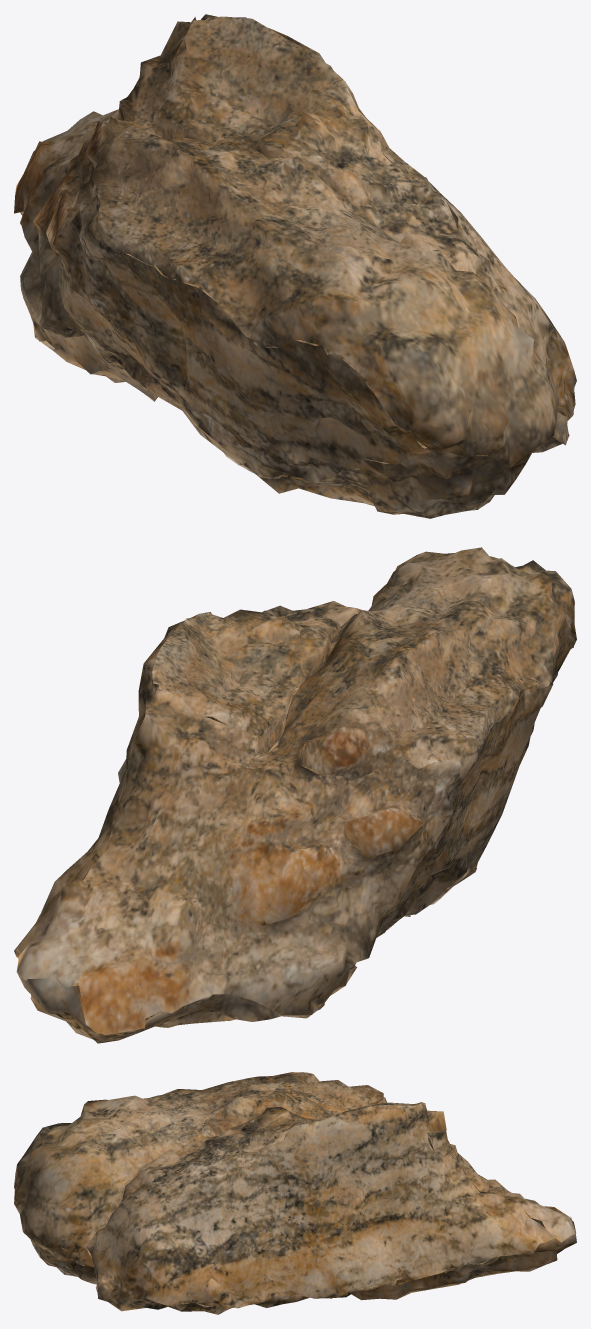
File: SM_CinderScenery_Rock_B.fbx
The picture shows the model from 3 angles, top to bottom: view 1: azimuth 30°, elevation 25°; view 2: azimuth 150°, elevation 25°; view 3: azimuth 270°, elevation 25°; orthographic projection. The views are drawn at different scales.
Parts seen in each view (by area): view 1: SM_CinderScenery_Rock_B; view 2: SM_CinderScenery_Rock_B; view 3: SM_CinderScenery_Rock_B.
Part boxes in pixels (x1=…): SM_CinderScenery_Rock_B: x1=14, y1=14, x2=576, y2=518; SM_CinderScenery_Rock_B: x1=14, y1=547, x2=576, y2=1043; SM_CinderScenery_Rock_B: x1=14, y1=1072, x2=576, y2=1314.
Size of the model in its own units: 47.74 by 100 by 39.32.
